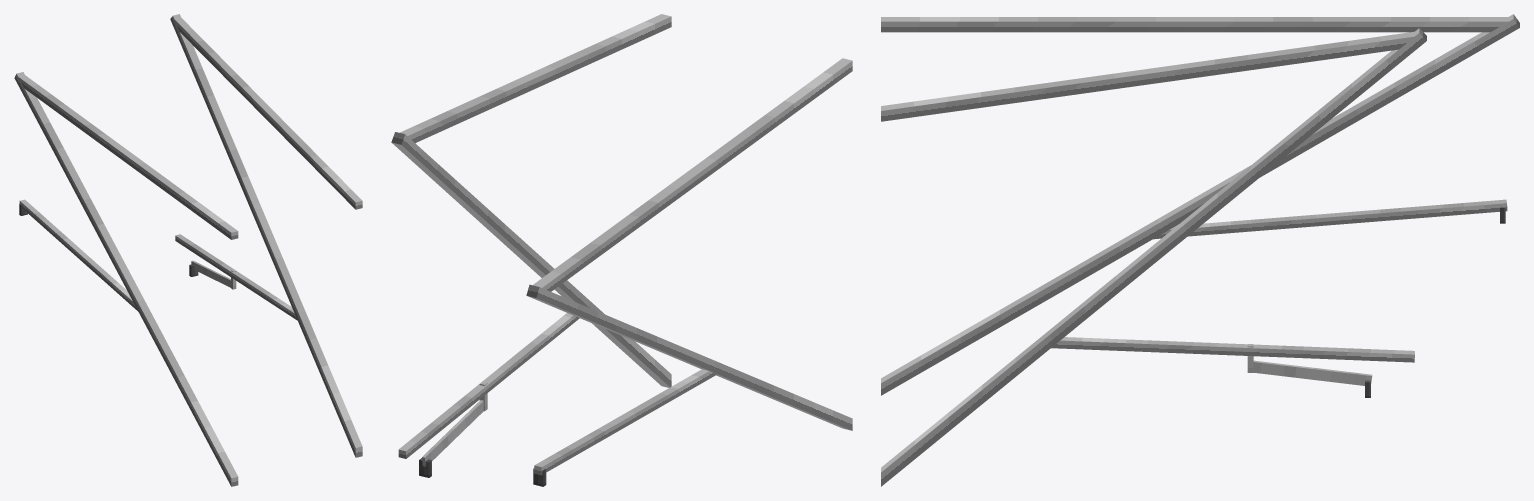
File: cantilever_inner_5px.obj
3 renders of one model, left to right at view 1: azimuth 30°, elevation 25°; view 2: azimuth 150°, elevation 25°; view 3: azimuth 270°, elevation 25°, orthographic. The views are drawn at different scales.
Parts seen in each view (by area): view 1: c79cc0de-7064-4f52-aa4e-b3b42285d5ce, ea95a4db-438e-4fd3-870a-d032d0c8397d, 01042e32-d628-4cb6-9ffe-eac01067a41f, 82195159-d0e7-4027-8e24-f9049f14b2c0, 30267ba2-064e-4b72-a025-8ddf4092a5a7, b1ce0fe2-43a9-4886-af8d-9392b687be59; view 2: 01042e32-d628-4cb6-9ffe-eac01067a41f, c79cc0de-7064-4f52-aa4e-b3b42285d5ce, ea95a4db-438e-4fd3-870a-d032d0c8397d, 82195159-d0e7-4027-8e24-f9049f14b2c0, b1ce0fe2-43a9-4886-af8d-9392b687be59, 30267ba2-064e-4b72-a025-8ddf4092a5a7, c9cb4e22-62b7-4384-8418-67df31c2ab8d; view 3: c79cc0de-7064-4f52-aa4e-b3b42285d5ce, ea95a4db-438e-4fd3-870a-d032d0c8397d, 01042e32-d628-4cb6-9ffe-eac01067a41f, 82195159-d0e7-4027-8e24-f9049f14b2c0, b1ce0fe2-43a9-4886-af8d-9392b687be59, 30267ba2-064e-4b72-a025-8ddf4092a5a7, c9cb4e22-62b7-4384-8418-67df31c2ab8d.
Boxes of the visible parts, left/top/right/bottom form: c79cc0de-7064-4f52-aa4e-b3b42285d5ce: left=170, top=14, right=362, bottom=457; ea95a4db-438e-4fd3-870a-d032d0c8397d: left=14, top=72, right=238, bottom=486; 01042e32-d628-4cb6-9ffe-eac01067a41f: left=18, top=75, right=238, bottom=239; 82195159-d0e7-4027-8e24-f9049f14b2c0: left=174, top=17, right=362, bottom=209; 30267ba2-064e-4b72-a025-8ddf4092a5a7: left=19, top=199, right=137, bottom=310; b1ce0fe2-43a9-4886-af8d-9392b687be59: left=175, top=234, right=297, bottom=320; 01042e32-d628-4cb6-9ffe-eac01067a41f: left=533, top=58, right=852, bottom=291; c79cc0de-7064-4f52-aa4e-b3b42285d5ce: left=391, top=132, right=671, bottom=387; ea95a4db-438e-4fd3-870a-d032d0c8397d: left=526, top=284, right=852, bottom=430; 82195159-d0e7-4027-8e24-f9049f14b2c0: left=399, top=14, right=671, bottom=143; b1ce0fe2-43a9-4886-af8d-9392b687be59: left=398, top=313, right=579, bottom=458; 30267ba2-064e-4b72-a025-8ddf4092a5a7: left=534, top=369, right=716, bottom=475; c9cb4e22-62b7-4384-8418-67df31c2ab8d: left=422, top=400, right=483, bottom=466; c79cc0de-7064-4f52-aa4e-b3b42285d5ce: left=881, top=28, right=1426, bottom=486; ea95a4db-438e-4fd3-870a-d032d0c8397d: left=881, top=14, right=1519, bottom=395; 01042e32-d628-4cb6-9ffe-eac01067a41f: left=881, top=17, right=1508, bottom=32; 82195159-d0e7-4027-8e24-f9049f14b2c0: left=881, top=31, right=1414, bottom=121; b1ce0fe2-43a9-4886-af8d-9392b687be59: left=1051, top=337, right=1414, bottom=362; 30267ba2-064e-4b72-a025-8ddf4092a5a7: left=1153, top=199, right=1507, bottom=239; c9cb4e22-62b7-4384-8418-67df31c2ab8d: left=1253, top=360, right=1372, bottom=385.
Size of the model in its own units: 1.19 by 2.67 by 3.4.
